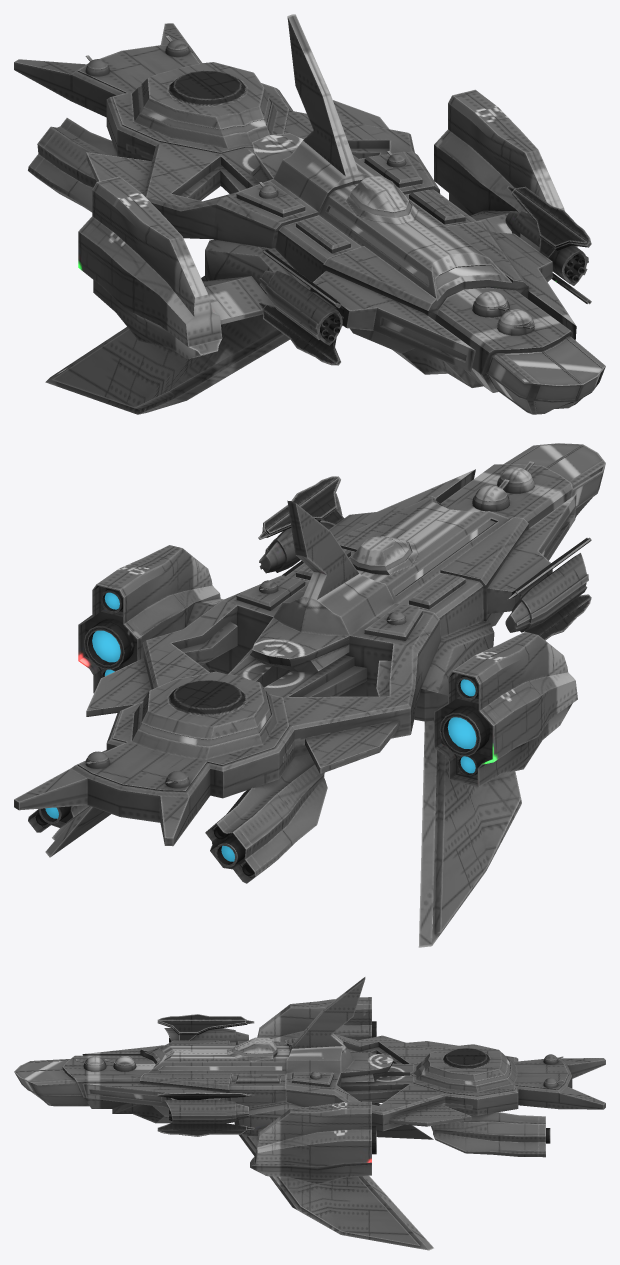
The model's file is Wraith.glb.
3 views of the same model, one above another, from view 1: azimuth 30°, elevation 25°; view 2: azimuth 150°, elevation 25°; view 3: azimuth 270°, elevation 25° (orthographic). The views are drawn at different scales.
Parts seen in each view (by area): view 1: Куб.018; view 2: Куб.018; view 3: Куб.018.
Boxes of the visible parts, x1,y1,x2,y2 form: Куб.018: (14, 14, 605, 414); Куб.018: (14, 443, 605, 947); Куб.018: (14, 977, 605, 1250).
Bounding box in the file's own units: 0.6375 × 0.5277 × 1.31.
4 materials, 4 textured.
